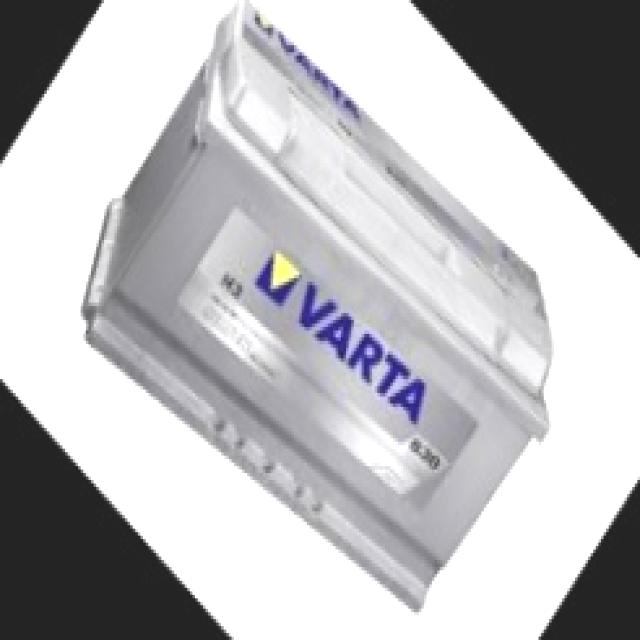elektronik: (85, 10, 552, 601)
